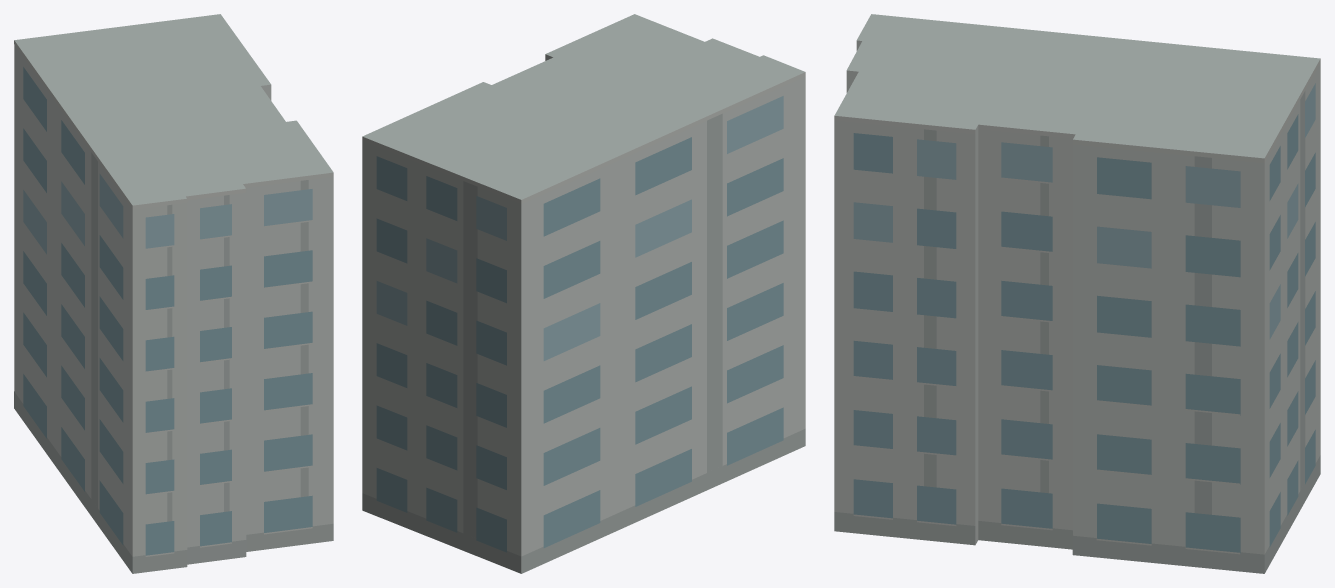
Rendered from survey-upis-32591626.glb.
3 renders of one model, left to right at view 1: azimuth 30°, elevation 25°; view 2: azimuth 150°, elevation 25°; view 3: azimuth 270°, elevation 25°, orthographic. The views are drawn at different scales.
Parts seen in each view (by area): view 1: survey-upis-32591626.tmp; view 2: survey-upis-32591626.tmp; view 3: survey-upis-32591626.tmp.
Part boxes in pixels (x1,y1,x2,y2): survey-upis-32591626.tmp: [14, 14, 333, 573]; survey-upis-32591626.tmp: [362, 14, 805, 573]; survey-upis-32591626.tmp: [834, 14, 1320, 573].
Bounding box in the file's own units: 16.26 × 21.8 × 23.13.
